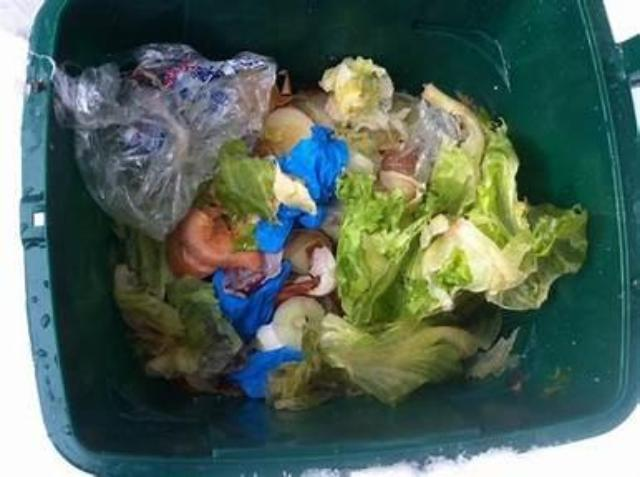Garbage: (40, 10, 595, 443)
Plastic_Bag: (49, 40, 278, 244)
